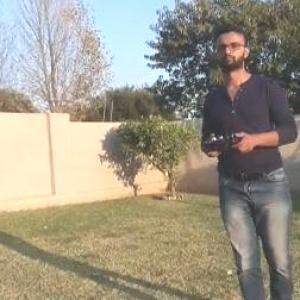follow: (191, 18, 299, 299)
